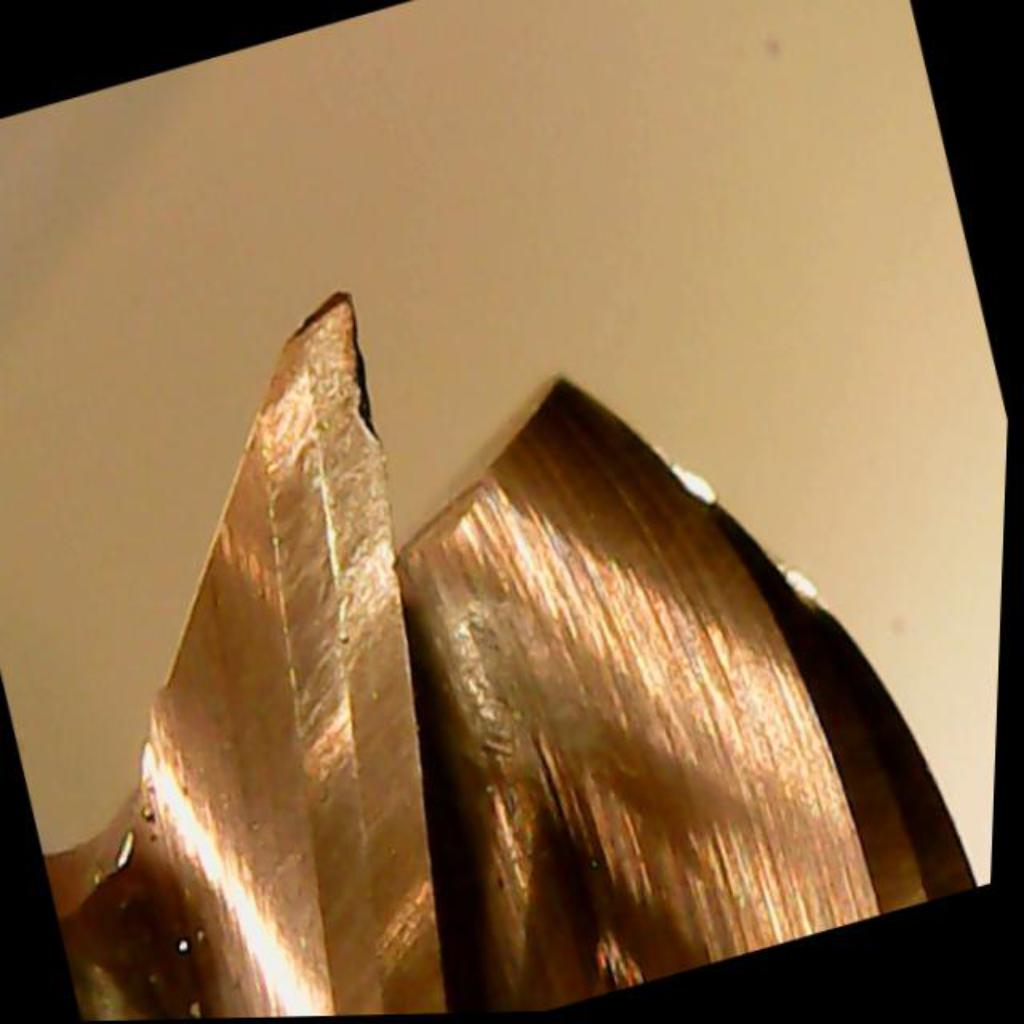Tool-wear-class-1: (180, 280, 492, 754)
